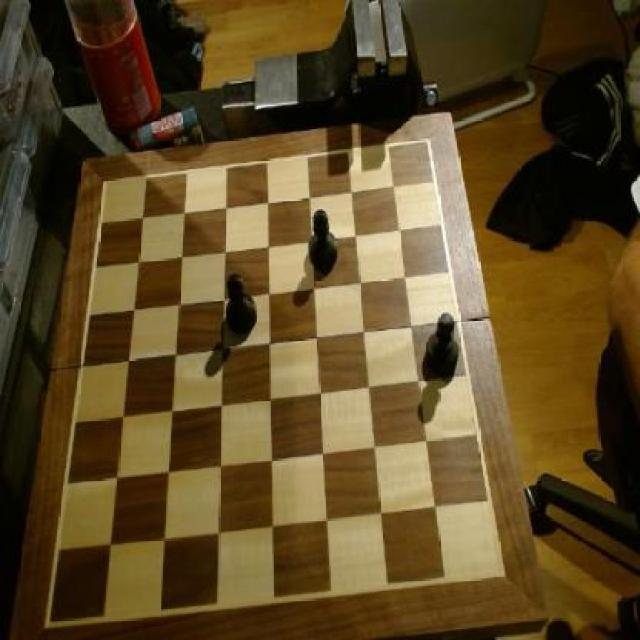black-knight: (422, 312, 461, 385), (225, 272, 260, 338), (308, 206, 342, 272)
